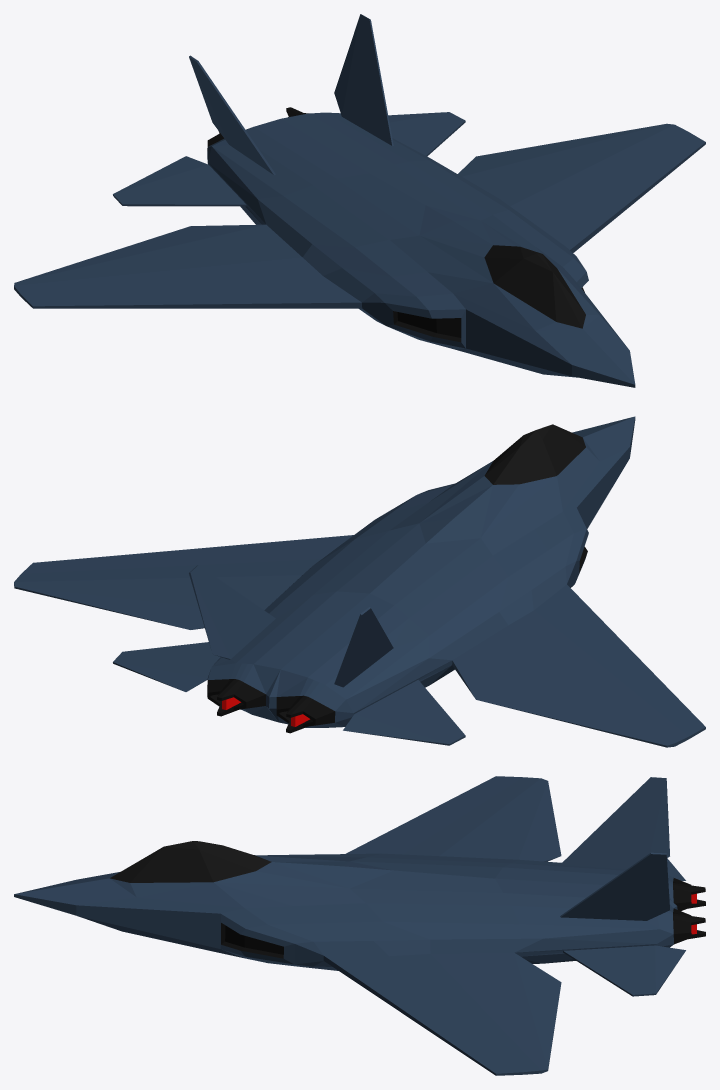
File: jet.obj
The picture shows the model from 3 angles, top to bottom: view 1: azimuth 30°, elevation 25°; view 2: azimuth 150°, elevation 25°; view 3: azimuth 270°, elevation 25°; orthographic projection. The views are drawn at different scales.
Parts seen in each view (by area): view 1: Frame, Wings.Front; view 2: Frame, Wings.Front, Thrusters; view 3: Frame, Wings.Front, Thrusters.
Part boxes in pixels (x1=…): Frame: x1=113, y1=14, x2=635, y2=387; Wings.Front: x1=14, y1=123, x2=705, y2=308; Frame: x1=113, y1=416, x2=635, y2=745; Wings.Front: x1=14, y1=535, x2=705, y2=747; Thrusters: x1=207, y1=679, x2=335, y2=733; Frame: x1=14, y1=777, x2=685, y2=996; Wings.Front: x1=323, y1=776, x2=561, y2=1075; Thrusters: x1=673, y1=878, x2=705, y2=944.
Size of the model in its own units: 7.56 by 1.67 by 7.42.
